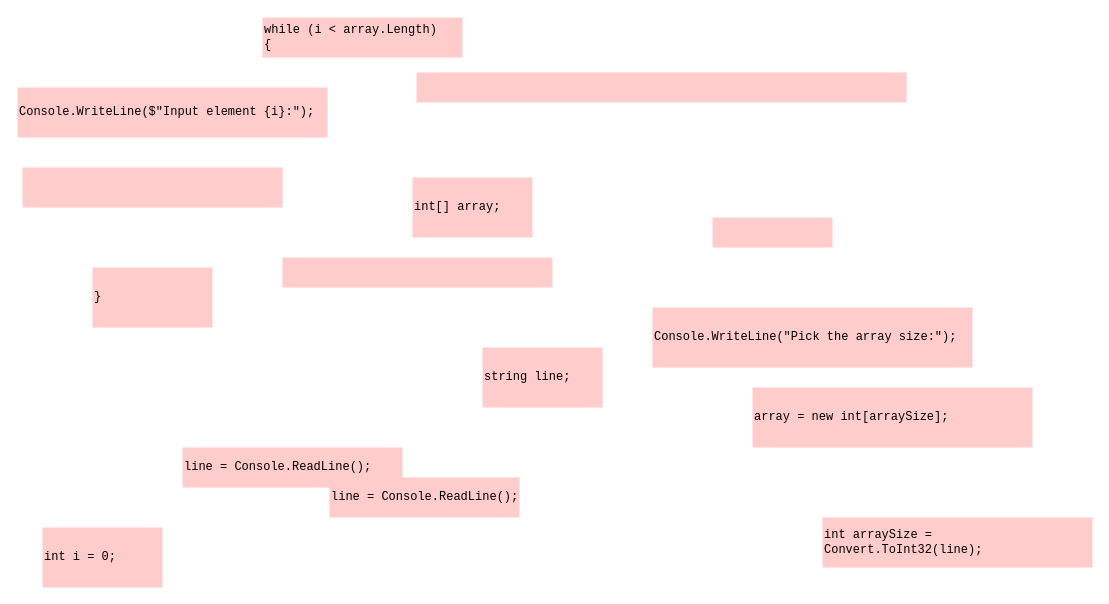
The diagram is 1109 pixels wide and 604 high, and some of its shapes have lost their labels. The centre of each missing label's shape, as x and y in pixels:
array[i] = number;: (x=152, y=187)
Console.WriteLine("The array is: " + string.Join(", ", array));: (x=661, y=87)
i += 1;: (x=772, y=232)
int number = Convert.ToInt32(line);: (x=417, y=272)
